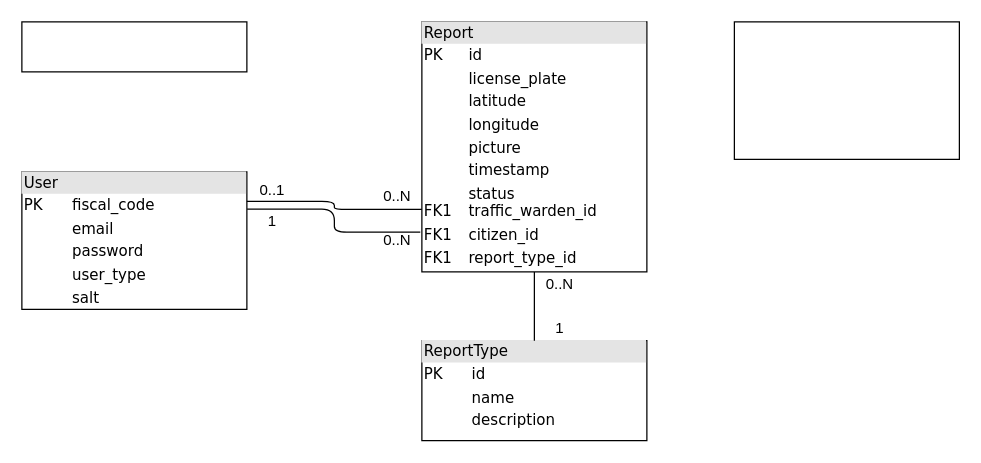
The diagram is 981 pixels wide and 463 high, and some of its shapes have lost their labels. Each missing label, with the box of its shape:
Subscription PK token: (21, 21, 247, 72)
Suggestion PK id latitude longitude description reason: (733, 21, 959, 159)
